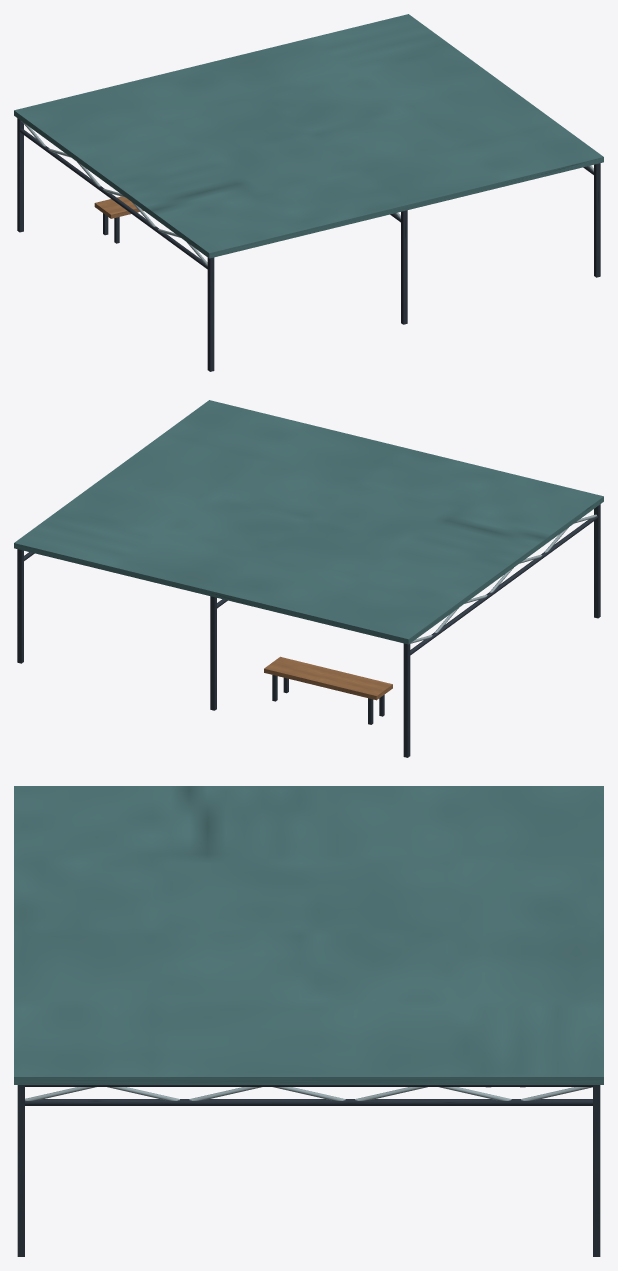
Rendered from WorkshopShed.glb.
3 renders of one model, top to bottom at view 1: azimuth 30°, elevation 25°; view 2: azimuth 150°, elevation 25°; view 3: azimuth 270°, elevation 25°, orthographic. The views are drawn at different scales.
Parts seen in each view (by area): view 1: Flat steel roof, Chord, Upright, Upright.002, Upright.004, Upright.001, Workbench; view 2: Flat steel roof, Workbench, Chord, Upright.001, Upright.003, Upright.005, Upright; view 3: Flat steel roof, Chord.004, Upright.004, Upright.005, Chord.005.
Part boxes in pixels (box(x1,y1,x2,y2)): Flat steel roof: box(14, 14, 603, 258); Chord: box(20, 128, 207, 269); Upright: box(207, 257, 214, 371); Upright.002: box(401, 210, 407, 324); Upright.004: box(594, 163, 600, 277); Upright.001: box(17, 118, 23, 232); Workbench: box(94, 196, 143, 218); Flat steel roof: box(14, 400, 603, 644); Workbench: box(264, 656, 392, 700); Chord: box(410, 515, 597, 655); Upright.001: box(403, 643, 410, 757); Upright.003: box(210, 596, 216, 710); Upright.005: box(17, 549, 23, 663); Upright: box(594, 504, 600, 618); Flat steel roof: box(14, 786, 603, 1084); Chord.004: box(25, 1099, 592, 1105); Upright.004: box(17, 1085, 24, 1256); Upright.005: box(593, 1085, 600, 1256); Chord.005: box(25, 1085, 592, 1086).
Size of the model in its own units: 14 by 4.07 by 12.
Materials: 4 (4 with a texture image).
